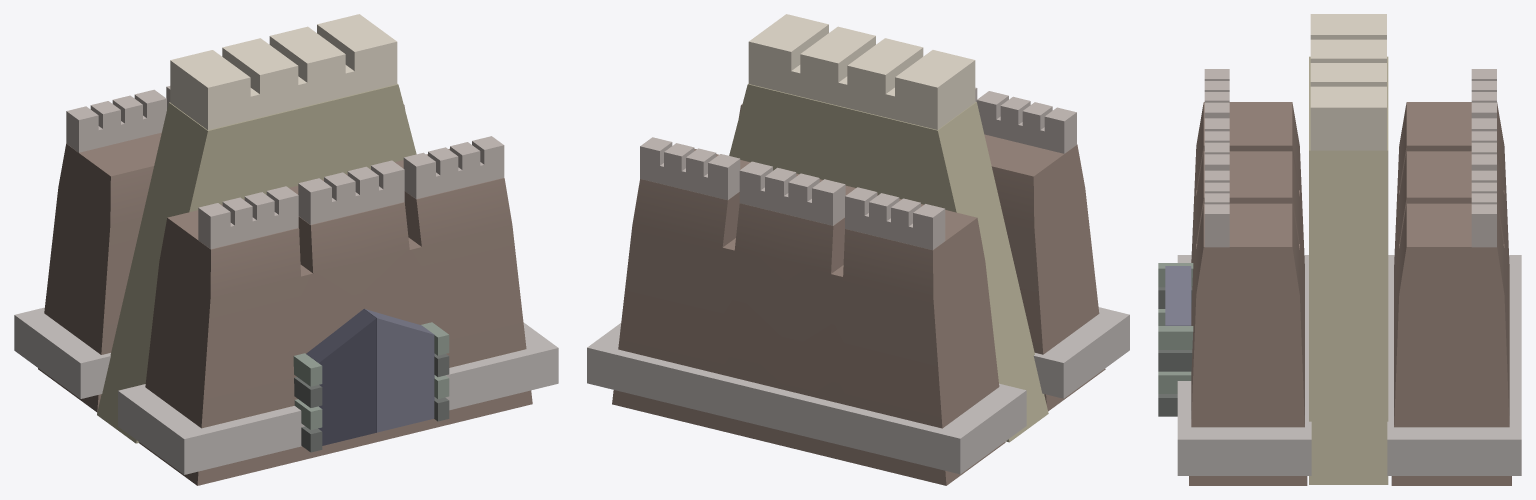
File: Castle.fbx
3 renders of one model, left to right at view 1: azimuth 30°, elevation 25°; view 2: azimuth 150°, elevation 25°; view 3: azimuth 270°, elevation 25°, orthographic.
Visible parts, largest first — view 1: pCube1, pCube3, pCube2, pPlane7, pCube5, pPlane8, pPlane9, pCube4, pPlane2, pPlane3, pPlane1, pPlane4 (+2 smaller); view 2: pCube2, pCube3, pCube4, pPlane7, pCube1, pCube5, pPlane5, pPlane4, pPlane6, pPlane1; view 3: pCube2, pCube1, pCube3, pPlane7, pCube4, pCube5, pPlane3, pPlane6, pPlane9, pPlane5, pPlane2, pPlane1 (+5 smaller).
Boxes of the visible parts, x1,y1,x2,y2 form: pCube1: (139, 148, 532, 485); pCube3: (97, 84, 416, 443); pCube2: (38, 104, 405, 412); pPlane7: (170, 14, 397, 130); pCube5: (118, 322, 558, 474); pPlane8: (306, 309, 376, 445); pPlane9: (364, 309, 434, 432); pCube4: (14, 307, 110, 398); pPlane2: (298, 160, 404, 224); pPlane3: (403, 136, 504, 199); pPlane1: (198, 186, 298, 249); pPlane4: (66, 89, 166, 152); pCube2: (612, 148, 1005, 485); pCube3: (729, 84, 1048, 442); pCube4: (587, 323, 1026, 474); pPlane7: (748, 14, 975, 129); pCube1: (739, 104, 1105, 411); pCube5: (1033, 307, 1129, 398); pPlane5: (739, 161, 845, 225); pPlane4: (845, 187, 945, 250); pPlane6: (640, 137, 740, 200); pPlane1: (976, 91, 1076, 153); pCube2: (1391, 102, 1511, 485); pCube1: (1189, 102, 1307, 485); pCube3: (1309, 56, 1388, 484); pPlane7: (1310, 14, 1386, 150); pCube4: (1387, 255, 1521, 475); pCube5: (1177, 255, 1311, 475); pPlane3: (1204, 170, 1229, 247); pPlane6: (1471, 170, 1496, 247); pPlane9: (1165, 266, 1191, 325); pPlane5: (1471, 118, 1496, 170); pPlane2: (1204, 118, 1229, 170); pPlane1: (1204, 69, 1229, 118).
Bounding box in the file's own units: 10.94 × 9.43 × 9.08.
